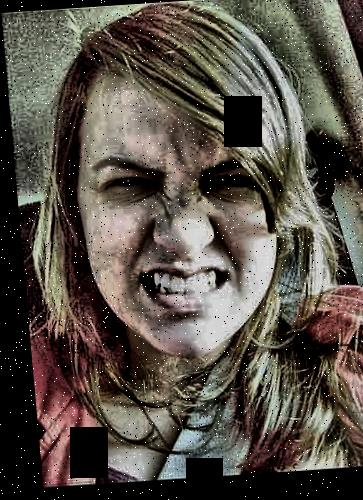seatbelt: (106, 180, 354, 471)
